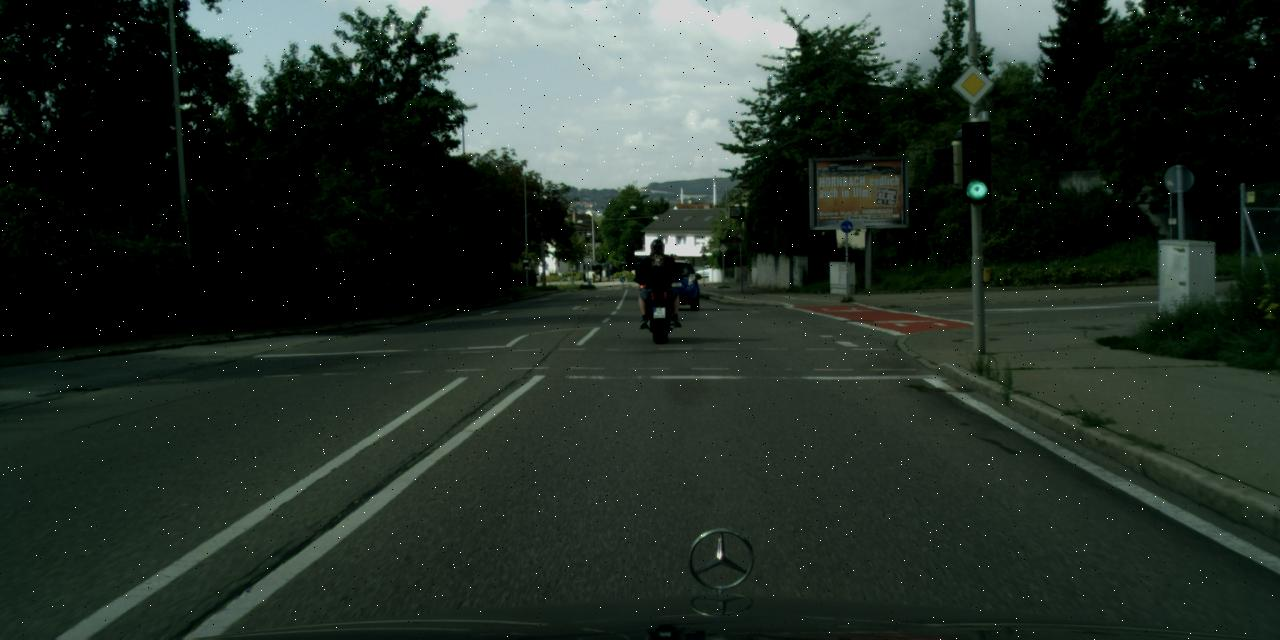ped: (641, 237, 677, 327), (600, 268, 606, 280)
